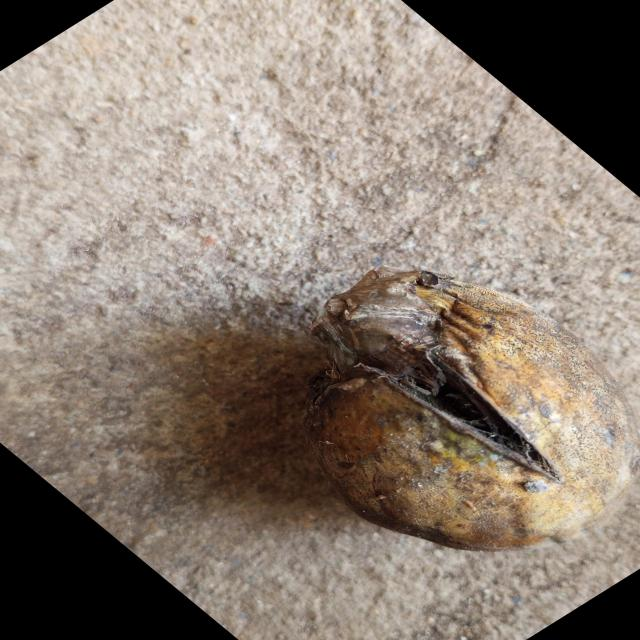damaged: (305, 267, 637, 550)
